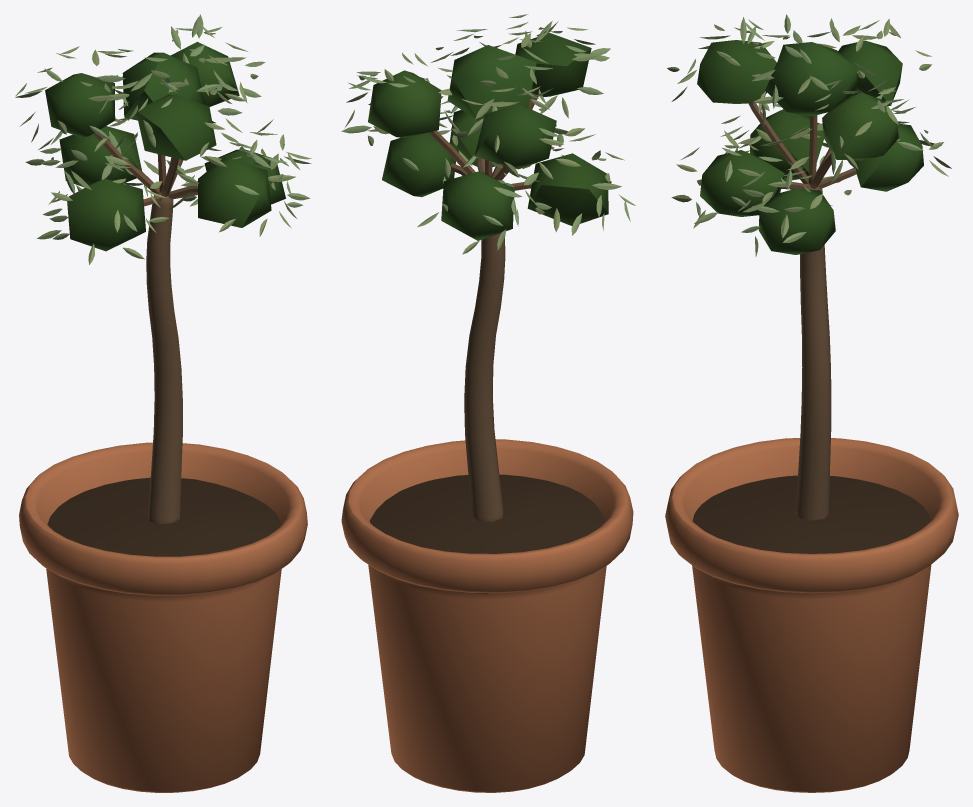
File: pot_olive.glb
The picture shows the model from 3 angles, left to right: view 1: azimuth 30°, elevation 25°; view 2: azimuth 150°, elevation 25°; view 3: azimuth 270°, elevation 25°; orthographic projection.
Visible parts, largest first — view 1: Sammel Putz, Sammel Blatt, Sammel Holz, Sammel Pflanze; view 2: Sammel Putz, Sammel Blatt, Sammel Holz, Sammel Pflanze; view 3: Sammel Putz, Sammel Blatt, Sammel Holz, Sammel Pflanze.
Part boxes in pixels (bbox=[...]): Sammel Putz: bbox=[19, 442, 307, 792]; Sammel Blatt: bbox=[45, 41, 285, 251]; Sammel Holz: bbox=[93, 133, 197, 524]; Sammel Pflanze: bbox=[15, 14, 311, 264]; Sammel Putz: bbox=[341, 439, 633, 792]; Sammel Blatt: bbox=[368, 33, 608, 240]; Sammel Holz: bbox=[428, 93, 538, 521]; Sammel Pflanze: bbox=[341, 14, 635, 254]; Sammel Putz: bbox=[665, 438, 958, 792]; Sammel Blatt: bbox=[697, 40, 923, 254]; Sammel Holz: bbox=[748, 103, 856, 520]; Sammel Pflanze: bbox=[667, 14, 951, 256].
Bounding box in the file's own units: 0.5134 × 1.3 × 0.4791.
